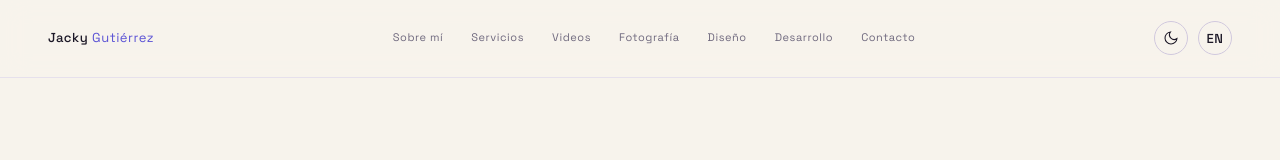
Test case: Nav › lang button shows ES when in English
Click the button with aria-label "switch to english" at (1215, 38), box [1198,21,1232,55]
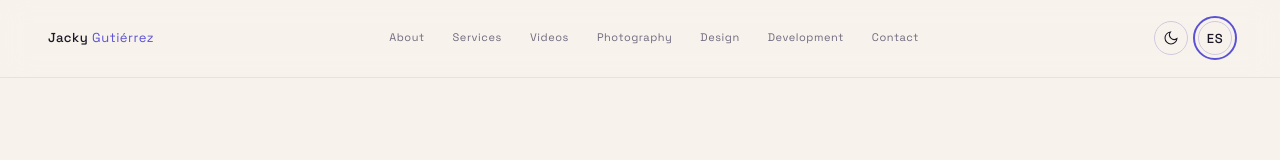
Now the button with aria-label "cambiar a español" is shown, box [1198,21,1232,55]
